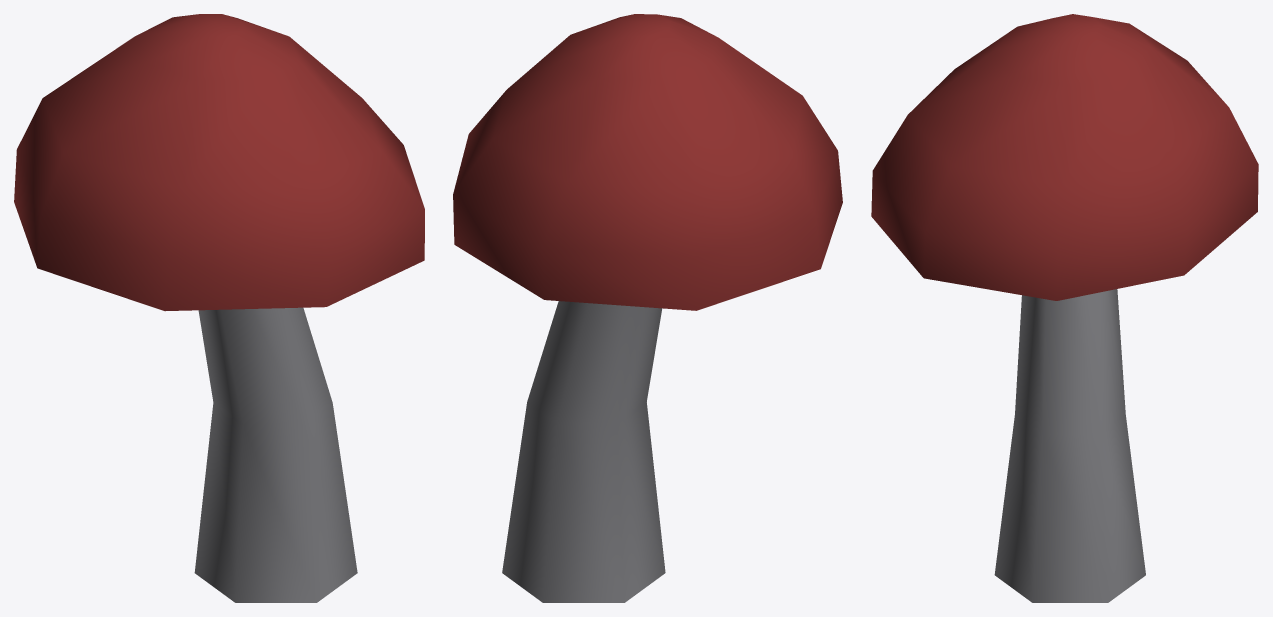
Rendered from Mushroom.fbx.
3 views of the same model, side by side, from view 1: azimuth 30°, elevation 25°; view 2: azimuth 150°, elevation 25°; view 3: azimuth 270°, elevation 25° (orthographic). The views are drawn at different scales.
Parts seen in each view (by area): view 1: Mushroom_Green; view 2: Mushroom_Green; view 3: Mushroom_Green.
Part boxes in pixels (bbox=[...]): Mushroom_Green: bbox=[14, 14, 424, 602]; Mushroom_Green: bbox=[453, 14, 842, 602]; Mushroom_Green: bbox=[871, 14, 1258, 602].
Size of the model in its own units: 22.7 by 34.12 by 22.83.
